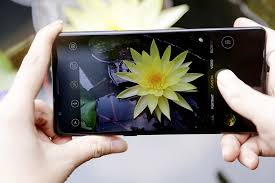bphone: (45, 24, 269, 137)
